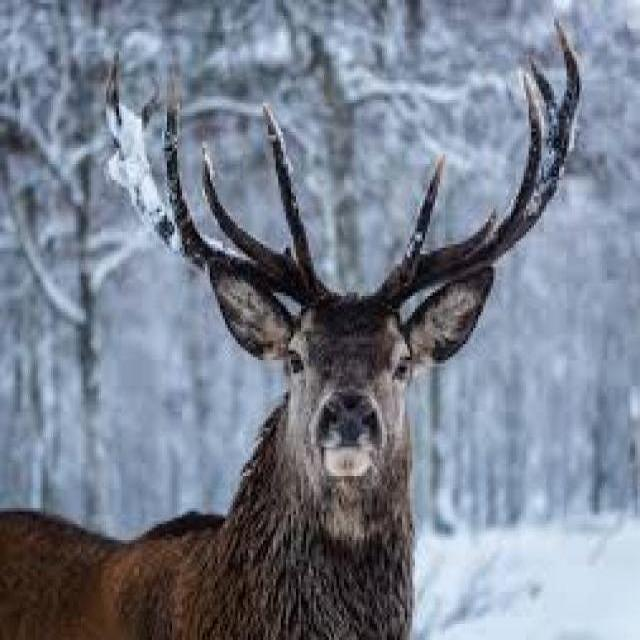deer: (79, 10, 603, 640)
